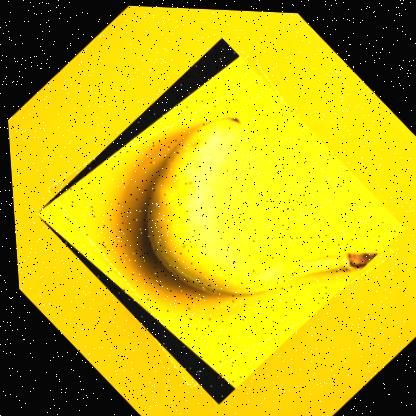banana: (22, 27, 411, 409)
